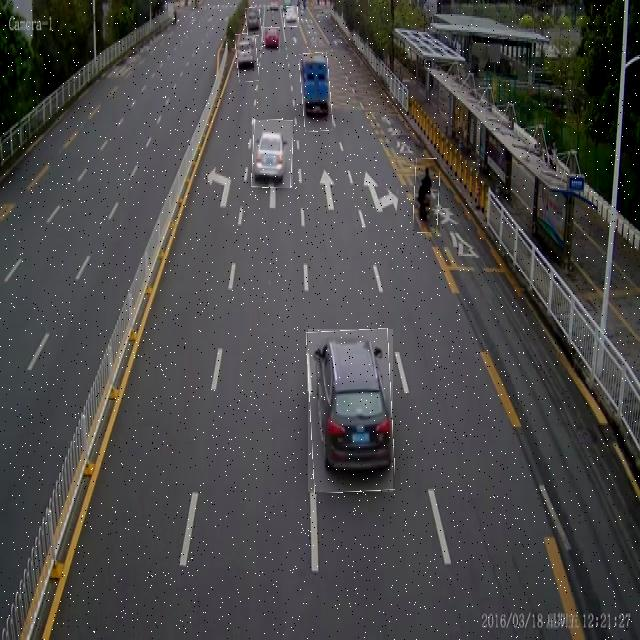Car: (308, 329, 393, 492), (252, 120, 293, 188), (236, 34, 258, 82), (246, 8, 262, 36), (264, 27, 280, 52), (284, 7, 298, 27)
Motorcycle: (414, 158, 440, 233)
Truck: (300, 53, 332, 132)
